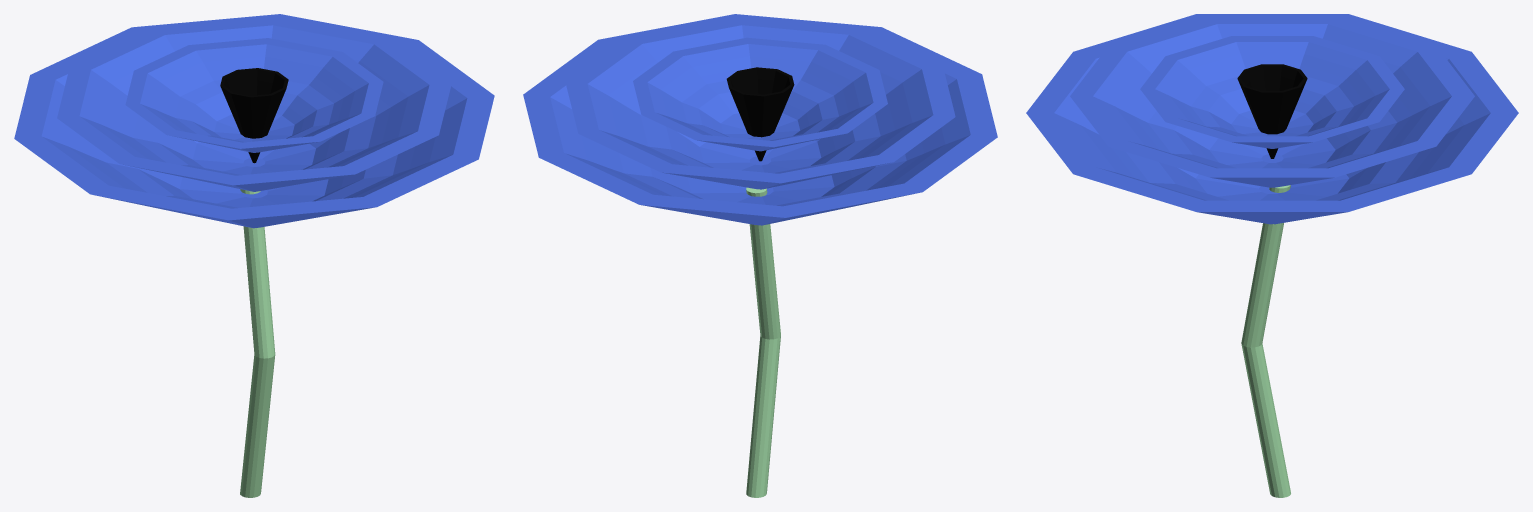
The model's file is Flower.fbx.
3 renders of one model, left to right at view 1: azimuth 30°, elevation 25°; view 2: azimuth 150°, elevation 25°; view 3: azimuth 270°, elevation 25°, orthographic.
Parts seen in each view (by area): view 1: Cone.002; view 2: Cone.002; view 3: Cone.002.
Boxes of the visible parts, x1,y1,x2,y2 form: Cone.002: (14,14,494,497); Cone.002: (523,14,997,497); Cone.002: (1026,14,1518,497).
Size of the model in its own units: 190 by 186 by 200.
